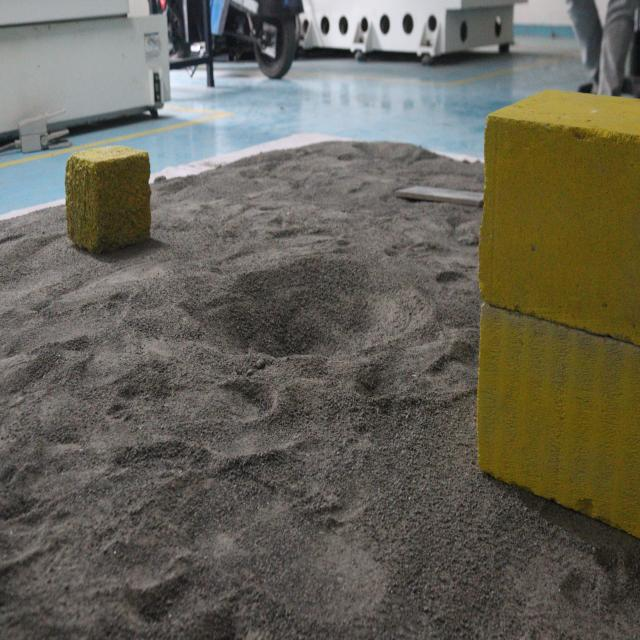box: (474, 94, 640, 572), (62, 146, 160, 265)
crater: (180, 252, 426, 381)
